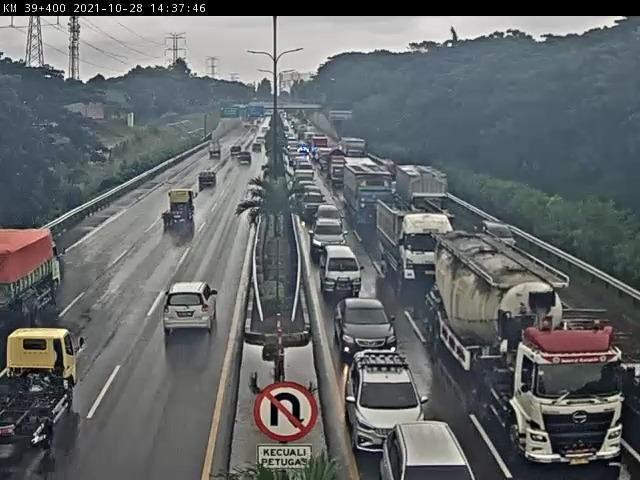bus: (317, 246, 382, 297)
car: (336, 349, 435, 451), (376, 421, 479, 480), (324, 296, 411, 356), (161, 279, 238, 344), (311, 220, 355, 252), (197, 156, 226, 203), (311, 205, 353, 227), (303, 192, 332, 219), (298, 185, 332, 199), (297, 179, 322, 196), (230, 141, 249, 161), (237, 151, 258, 168), (295, 171, 319, 184)
truck: (431, 227, 640, 479), (1, 305, 109, 471), (2, 220, 89, 326), (376, 199, 471, 288), (341, 163, 410, 227), (155, 185, 219, 241)
